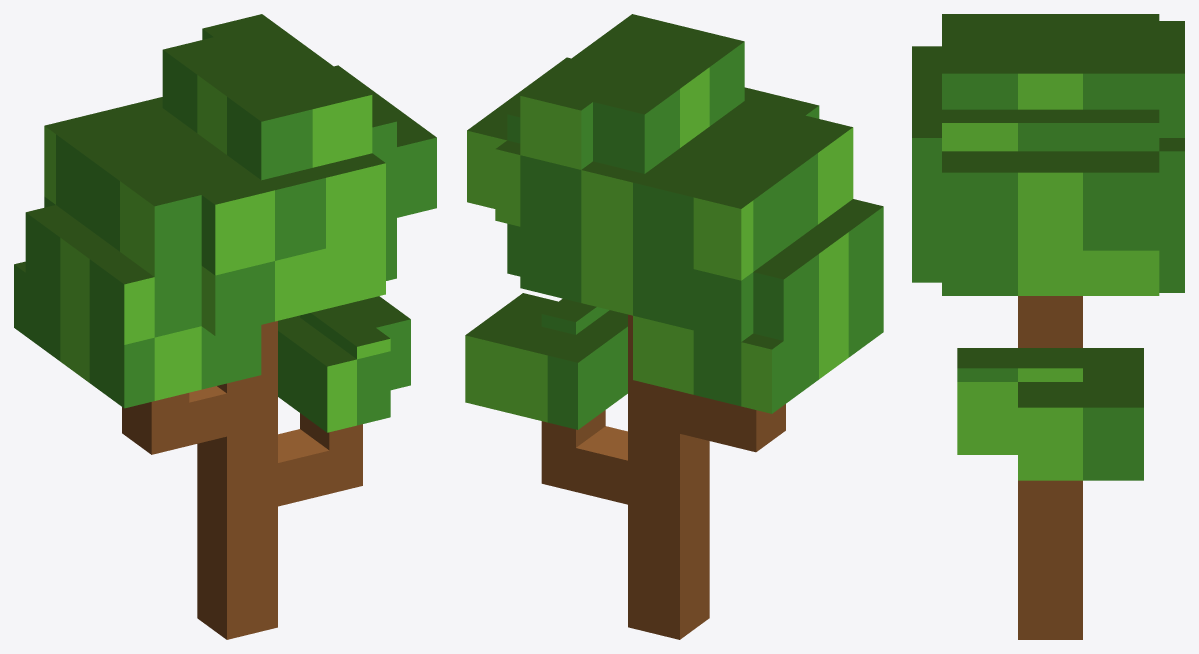
Rendered from medis.fbx.
The picture shows the model from 3 angles, left to right: view 1: azimuth 30°, elevation 25°; view 2: azimuth 150°, elevation 25°; view 3: azimuth 270°, elevation 25°; orthographic projection. The views are drawn at different scales.
Parts seen in each view (by area): view 1: medis4; view 2: medis4; view 3: medis4.
Part boxes in pixels (bbox=[...]): medis4: bbox=[14, 14, 436, 639]; medis4: bbox=[465, 14, 883, 639]; medis4: bbox=[912, 14, 1184, 639].
Size of the model in its own units: 629 by 1016 by 420.
